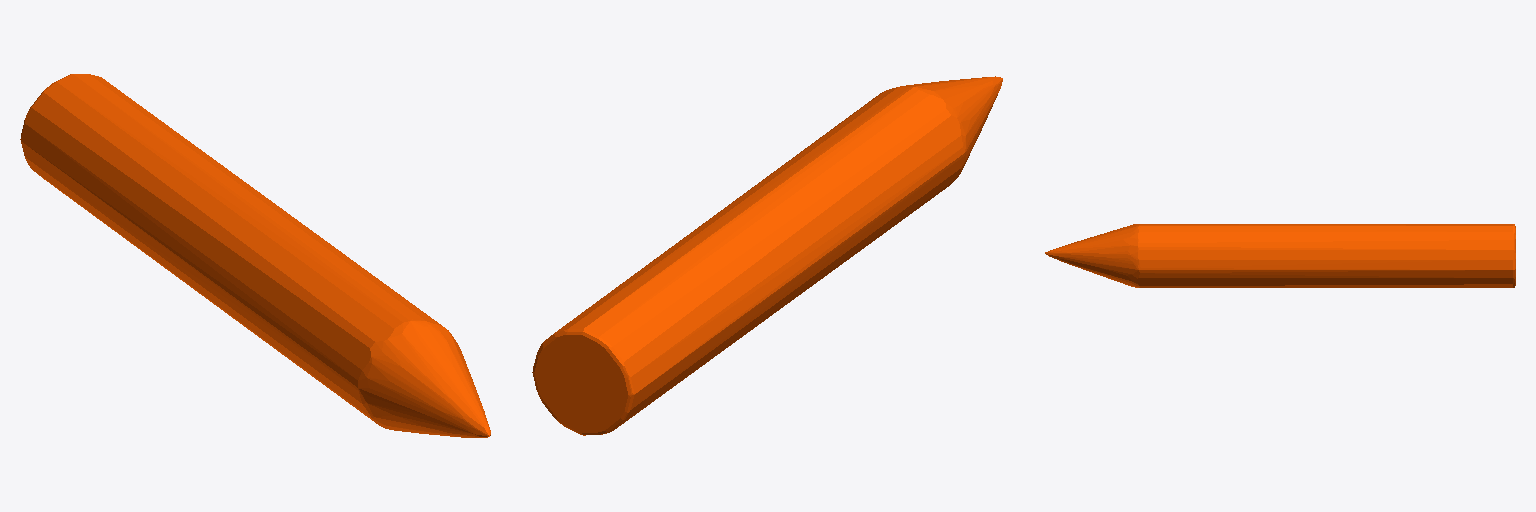
URDF robot description (Pencil):
<?xml version="1.0" ?>
<robot name="Pencil">
   <material name="obj_color">
      <color rgba="1.0 0.423529411765 0.0392156862745 1.0"/>
   </material>
   <link name="top">
      <inertial>
         <origin rpy="1.619275310843692e-05 0.0004640060675461952 0.0004640500597694716" xyz="-3.005508516776846e-05 0.01196327908605419 9.732987137213094e-06"/>
         <mass value="0.186865162060831"/>
         <inertia ixx="0.000464026314276028" ixy="-4.81007939431286e-07" ixz="2.213306597239035e-08" iyy="1.619332670206571e-05" iyz="1.596822263671133e-07" izz="0.00046402923944601"/>
      </inertial>
      <visual>
         <origin rpy="0 0 0" xyz="0 0 0"/>
         <geometry>
            <mesh filename="top_watertight_tiny.obj" scale="1 1 1"/>
         </geometry>
         <material name="obj_color"/>
      </visual>
      <collision>
         <origin rpy="0 0 0" xyz="0 0 0"/>
         <geometry>
            <mesh filename="top_watertight_tiny.obj" scale="1 1 1"/>
         </geometry>
      </collision>
   </link>
</robot>

--- What the picture shows (computed from the rendered views, not written in the file) ---
The picture shows the robot from 3 angles, left to right: view 1: azimuth 30°, elevation 25°; view 2: azimuth 150°, elevation 25°; view 3: azimuth 270°, elevation 25°; orthographic projection.
Robot: Pencil — 1 links, 0 joints (none); root link top; default pose: every joint at zero.
Links seen in each view (by area): view 1: top; view 2: top; view 3: top.
Link boxes in pixels (<box>): top: <box>20,74,490,437</box>; top: <box>532,76,1002,435</box>; top: <box>1045,224,1515,287</box>.
Size in the robot's own frame: 0.0275 by 0.1941 by 0.0275 metres.
Meshes: 1 distinct files referenced, 1 mesh visuals loaded (1 OBJ).